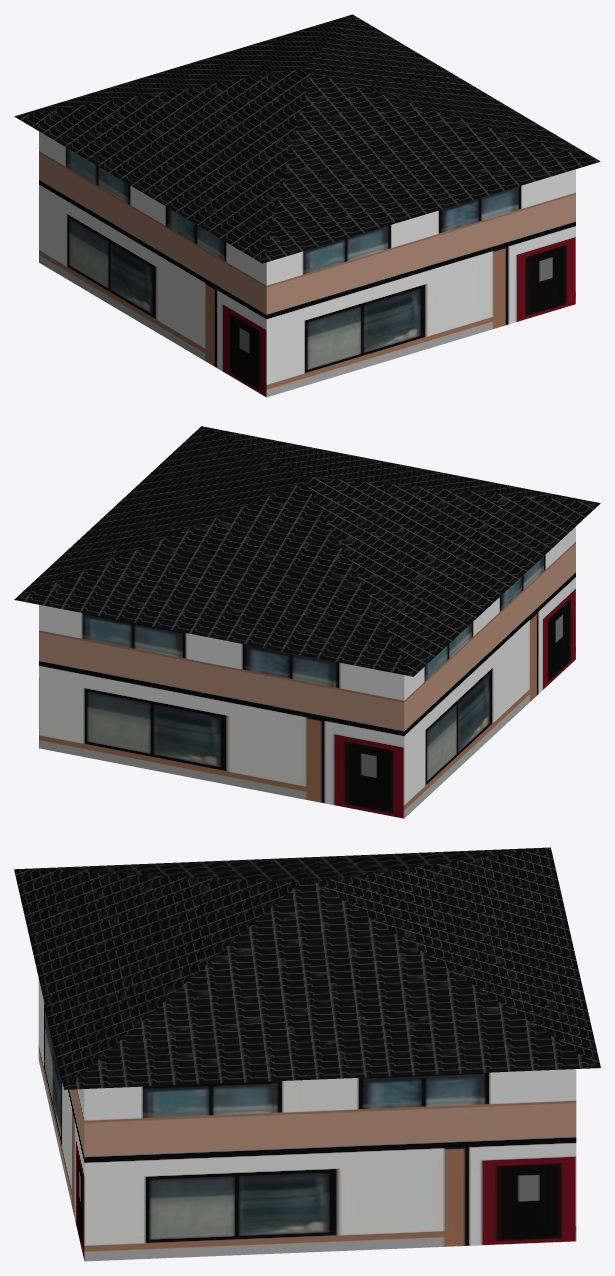
3 renders of one model, top to bottom at view 1: azimuth 30°, elevation 25°; view 2: azimuth 150°, elevation 25°; view 3: azimuth 270°, elevation 25°, orthographic. The views are drawn at different scales.
Parts seen in each view (by area): view 1: CityEngineMaterial_14_m, CityEngineMaterial_5_m; view 2: CityEngineMaterial_14_m, CityEngineMaterial_5_m; view 3: CityEngineMaterial_14_m, CityEngineMaterial_5_m.
Boxes of the visible parts, left/top/right/bottom form: CityEngineMaterial_14_m: left=14, top=14, right=600, bottom=263; CityEngineMaterial_5_m: left=39, top=131, right=575, bottom=397; CityEngineMaterial_14_m: left=14, top=426, right=600, bottom=676; CityEngineMaterial_5_m: left=39, top=527, right=575, bottom=818; CityEngineMaterial_14_m: left=14, top=847, right=600, bottom=1089; CityEngineMaterial_5_m: left=38, top=979, right=576, bottom=1261.
Bounding box in the file's own units: 23.86 × 12.33 × 24.42.
